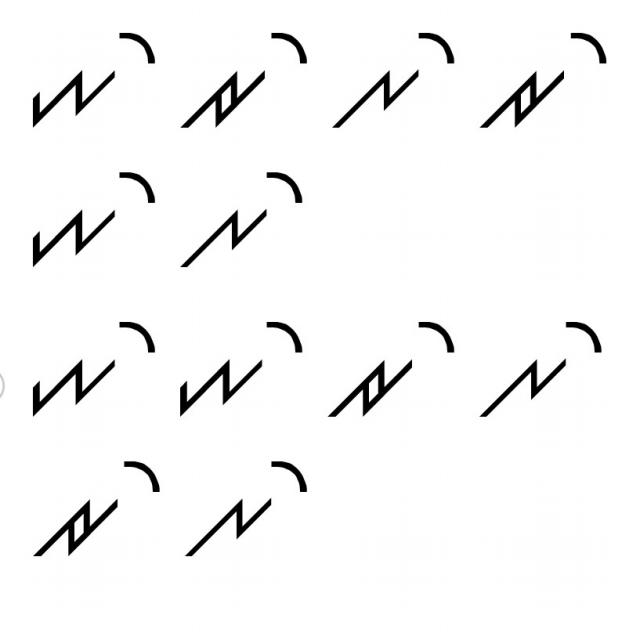lay: (474, 302, 607, 428), (178, 164, 316, 276), (323, 22, 456, 136), (175, 458, 312, 560)
ray: (176, 19, 310, 146), (320, 313, 460, 428), (28, 451, 162, 564)
yaw: (24, 152, 162, 276)
yay: (16, 20, 160, 134), (23, 310, 160, 416), (173, 315, 308, 420)
